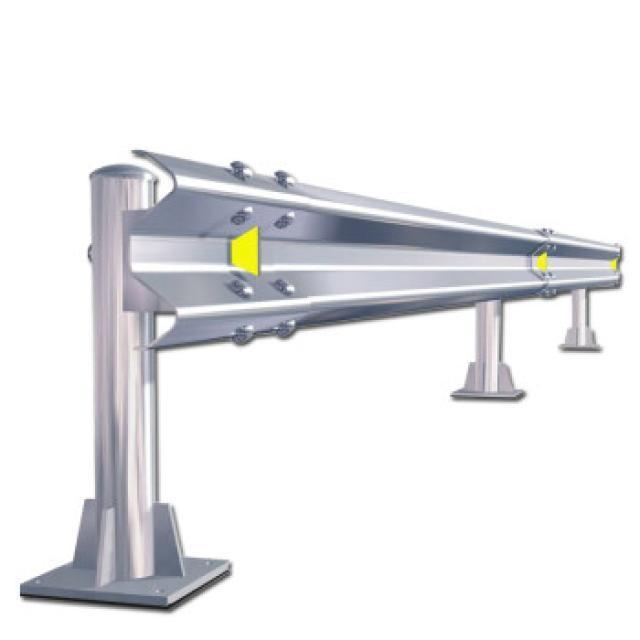Guard rail: (0, 143, 627, 624)
